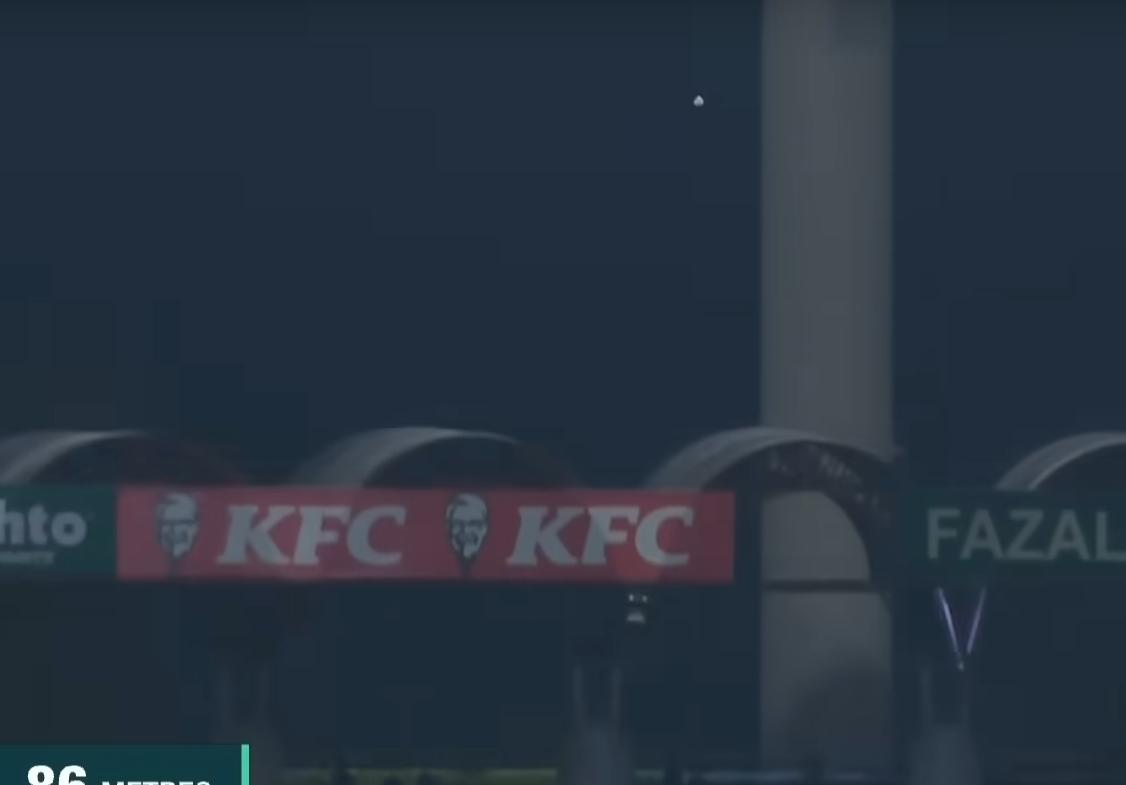Cricket-Ball: (683, 88, 712, 113)
